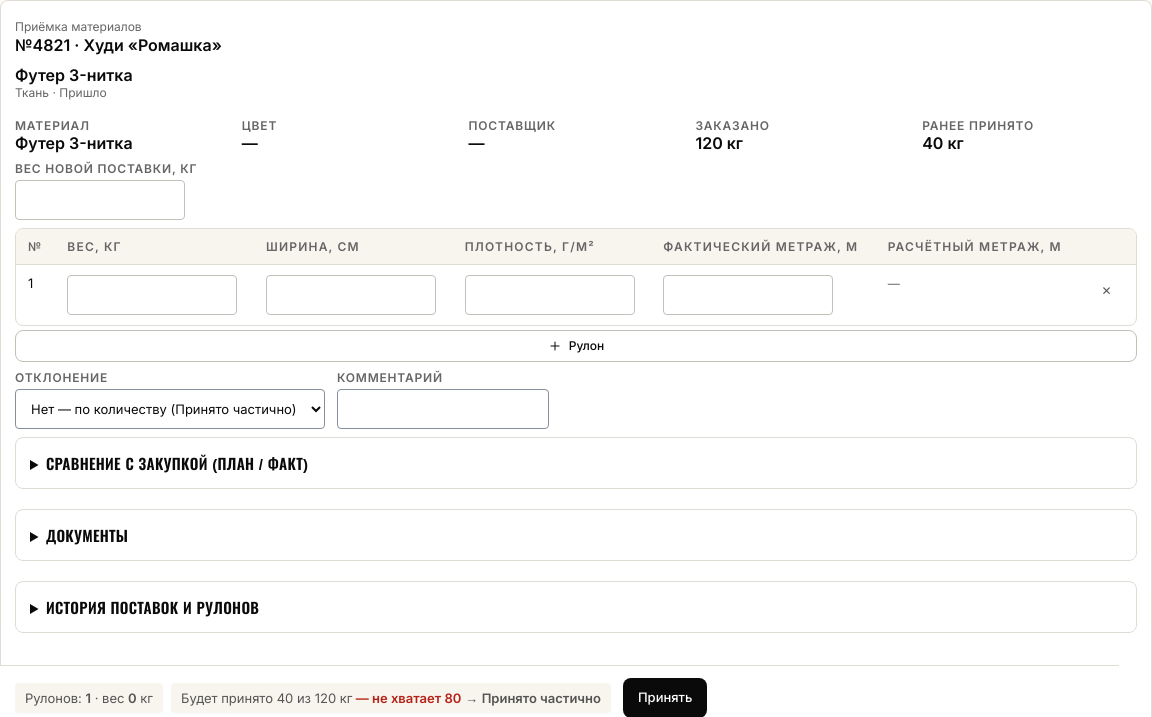
it: приёмка: статус выводится из чисел › считается по всем поставкам: 40 уже принято, пришло 80 — полная
The width and height of the screenshot is (1152, 717).
In the number field labelled "Вес новой поставки, кг": (100, 200) [15,180,185,220], type "80"
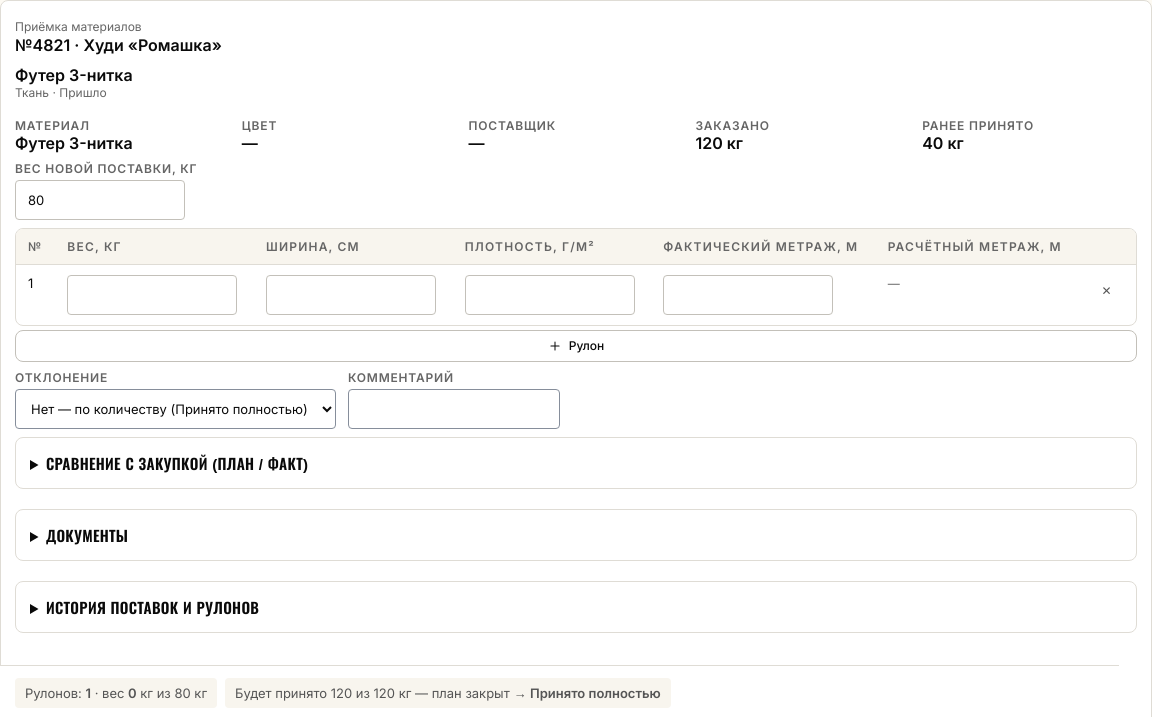
Check: the text "Будет принято" reads "Будет принято 120 из 120 кг — план закрыт → Принято полностью", box [225,678,671,708]
